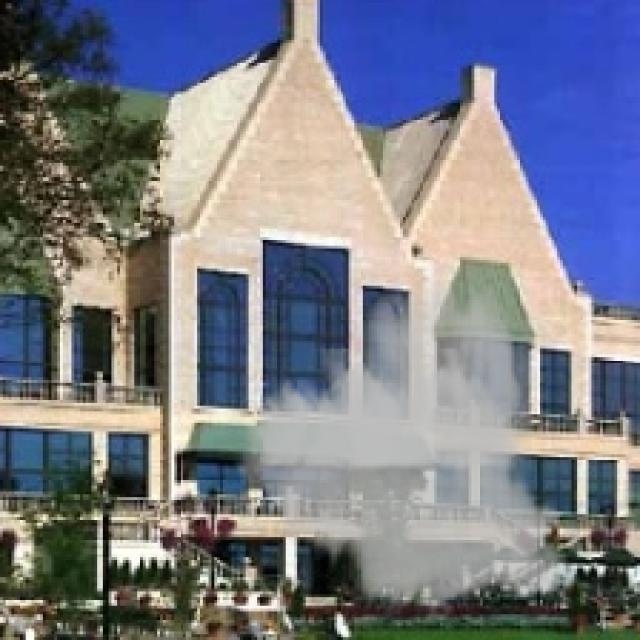smoke: (225, 266, 586, 623)
